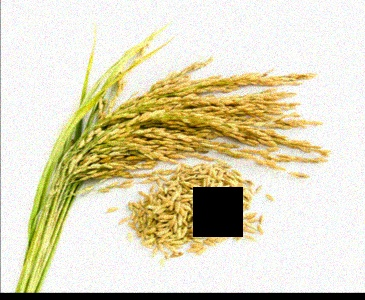rice: (57, 55, 322, 196)
